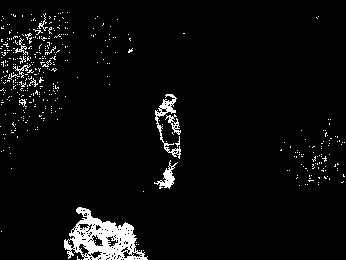person: (155, 90, 182, 189)
